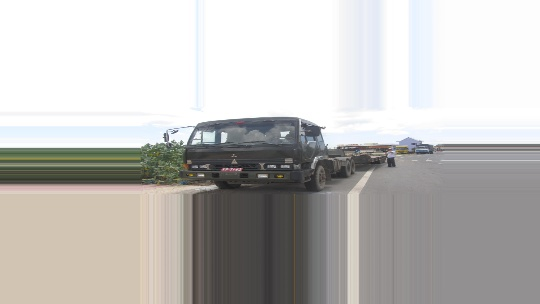plate: (220, 164, 242, 173)
